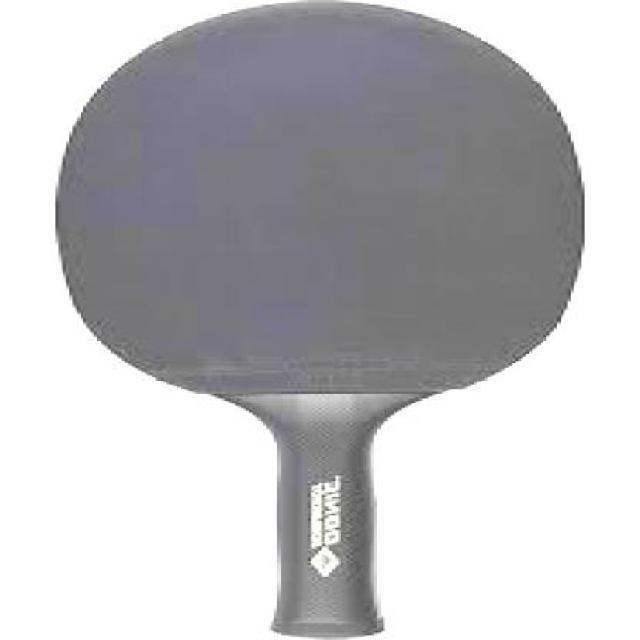table_tennis_racket: (43, 0, 599, 437)
